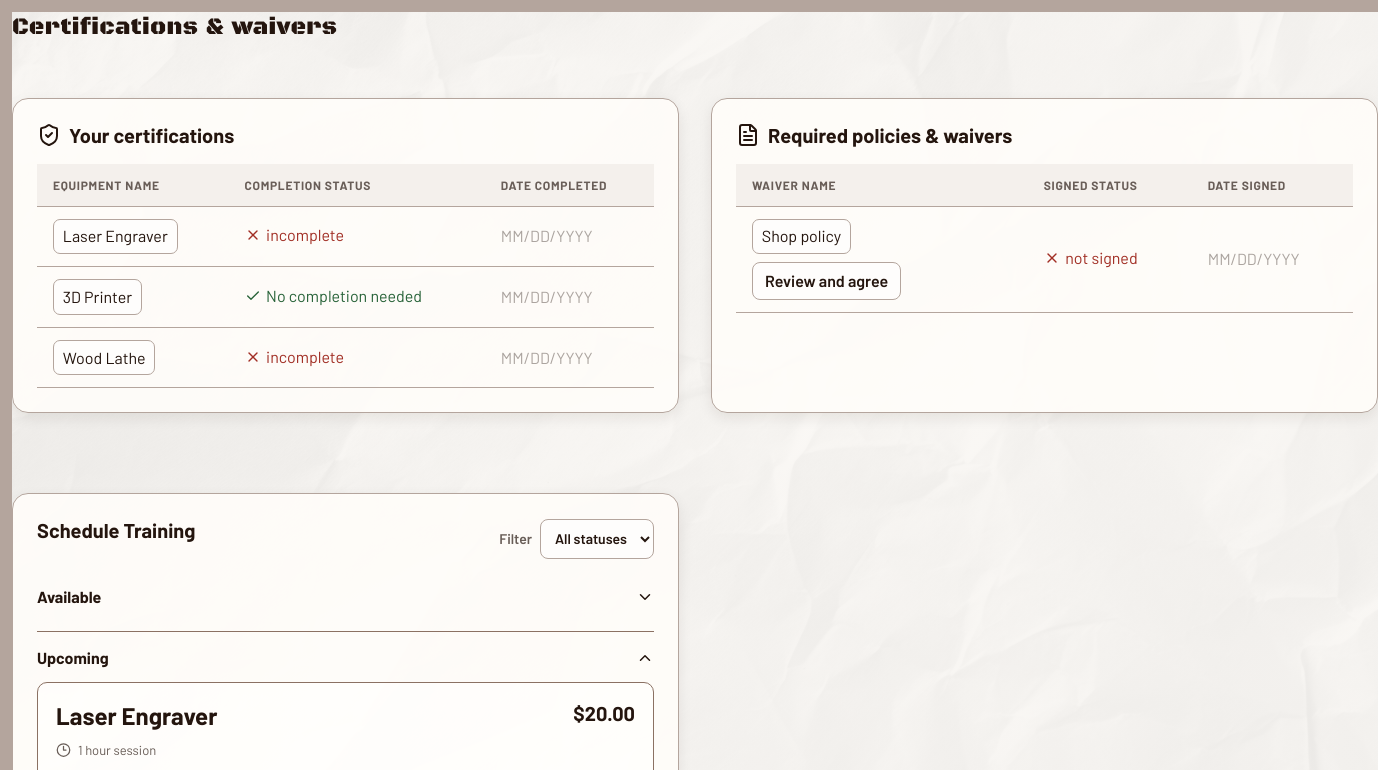
Test case: member demo shows available equipment under upcoming
Check: the heading "Schedule Training" is shown, box [37,518,195,542]
Select "Upcoming" in the dropdown named "Filter training by status" at [597, 539], box [540,519,654,559]
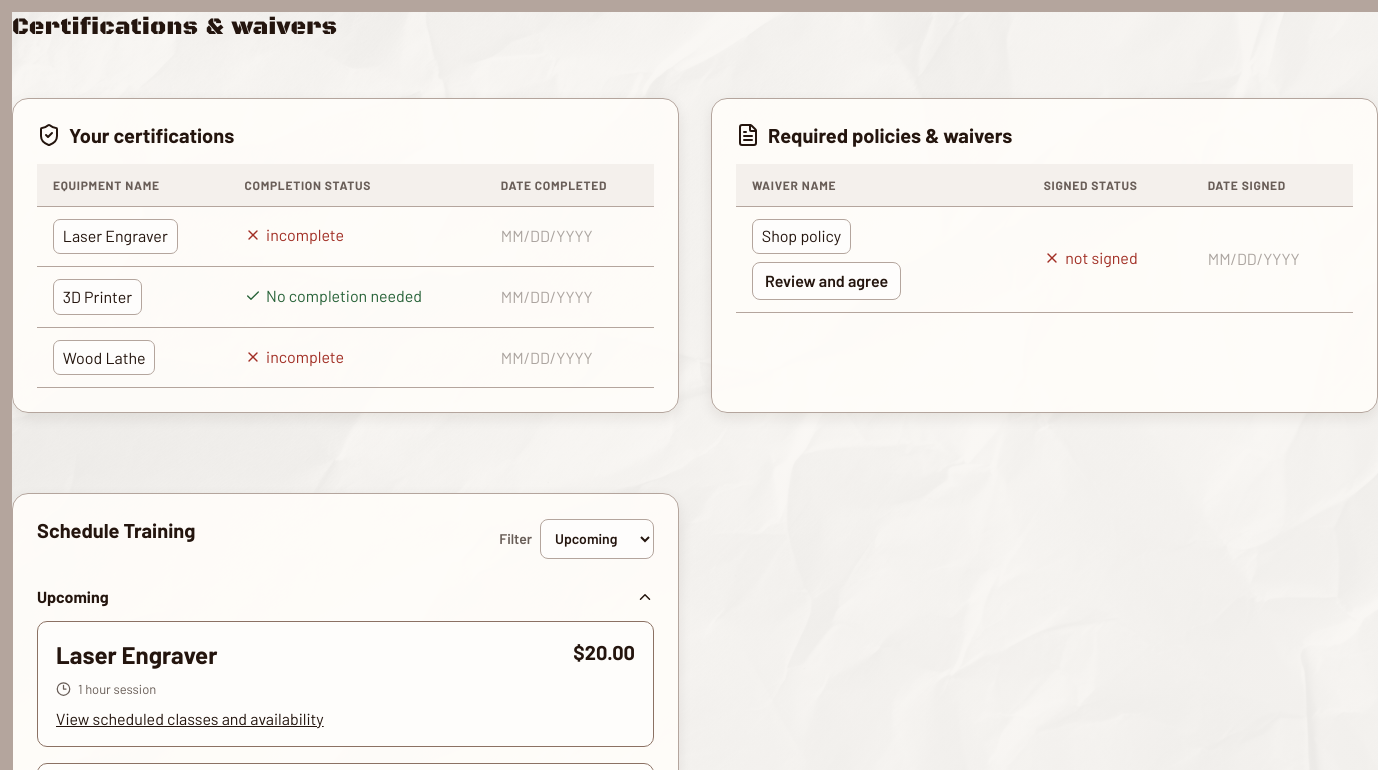
Check: the button "Upcoming" is shown, box [37,581,654,621]
Check: the button "Available" is gone
Select "Completed" in the dropdown named "Filter training by status" at [597, 539], box [540,519,654,559]
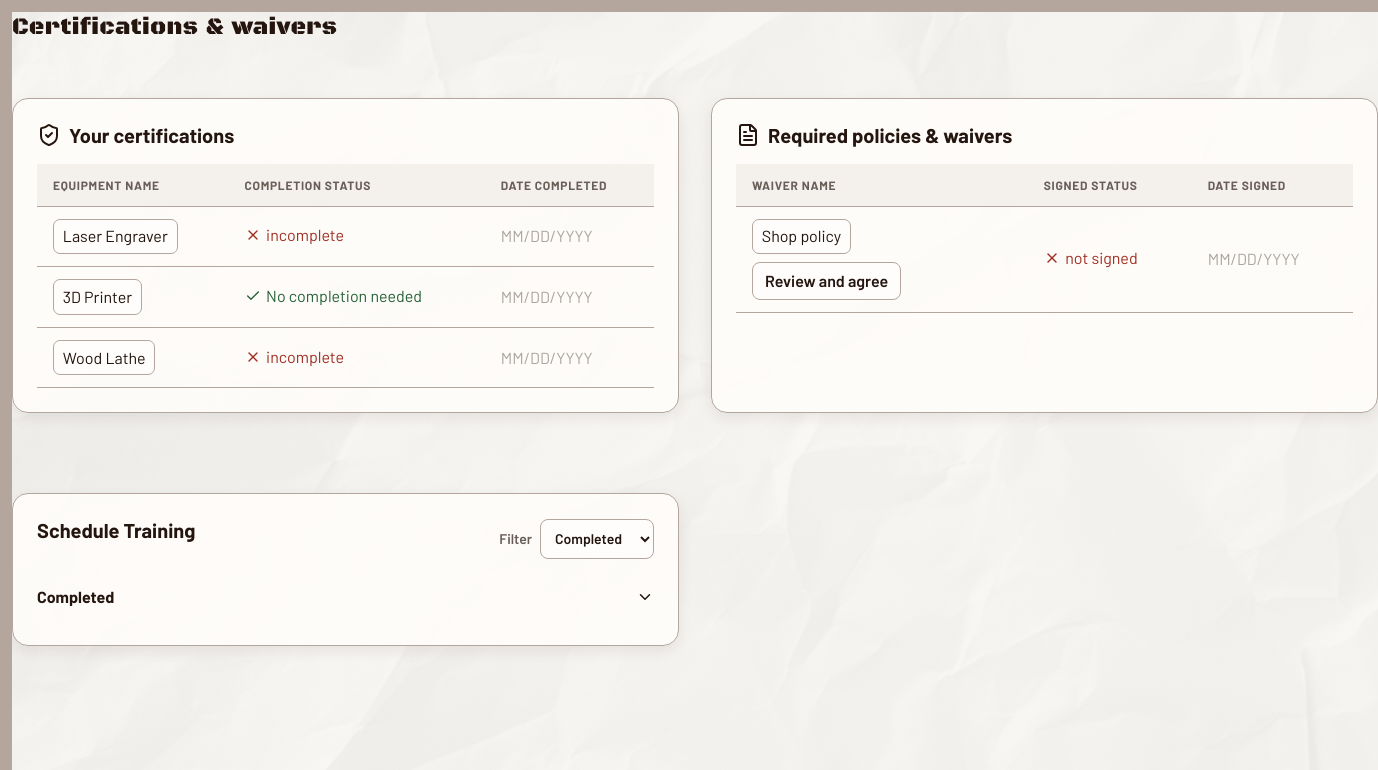
Check: the button "Completed" is shown, box [37,581,654,621]
Check: the button "Upcoming" is gone
